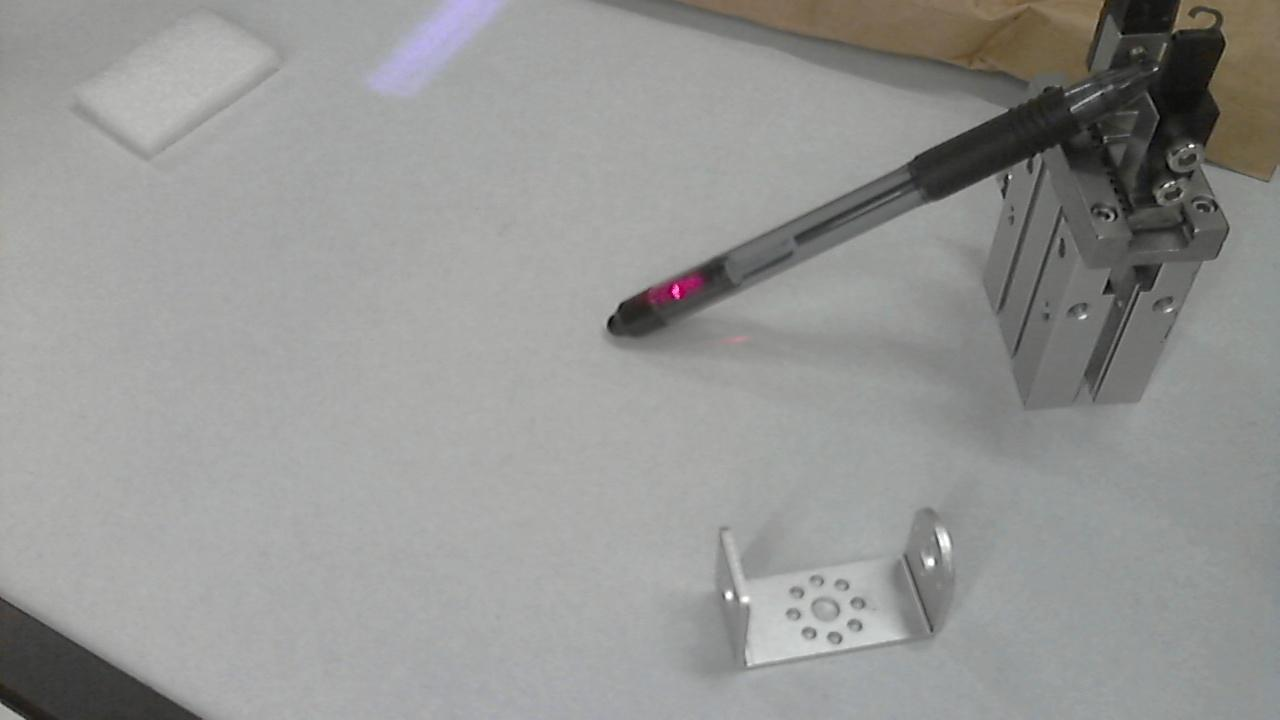Object retractable gel pen - Material rubber - Pdfname asdasdaswe: (637, 255, 725, 314)
